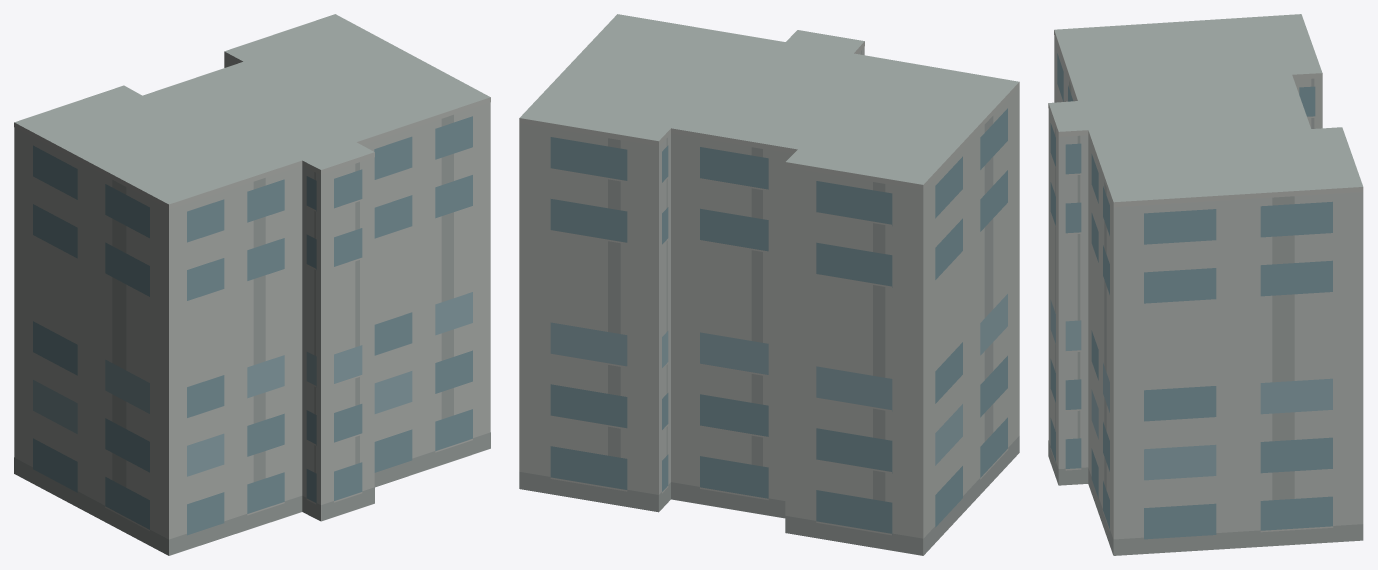
Rendered from survey-upis-32716137.glb.
The picture shows the model from 3 angles, left to right: view 1: azimuth 30°, elevation 25°; view 2: azimuth 150°, elevation 25°; view 3: azimuth 270°, elevation 25°; orthographic projection. The views are drawn at different scales.
Visible parts, largest first — view 1: survey-upis-32716137.tmp; view 2: survey-upis-32716137.tmp; view 3: survey-upis-32716137.tmp.
Part boxes in pixels (box(x1,y1,x2,y2)): survey-upis-32716137.tmp: box(14, 14, 490, 555); survey-upis-32716137.tmp: box(519, 14, 1019, 555); survey-upis-32716137.tmp: box(1048, 14, 1363, 555).
Size of the model in its own units: 19.18 by 16.8 by 13.56.
